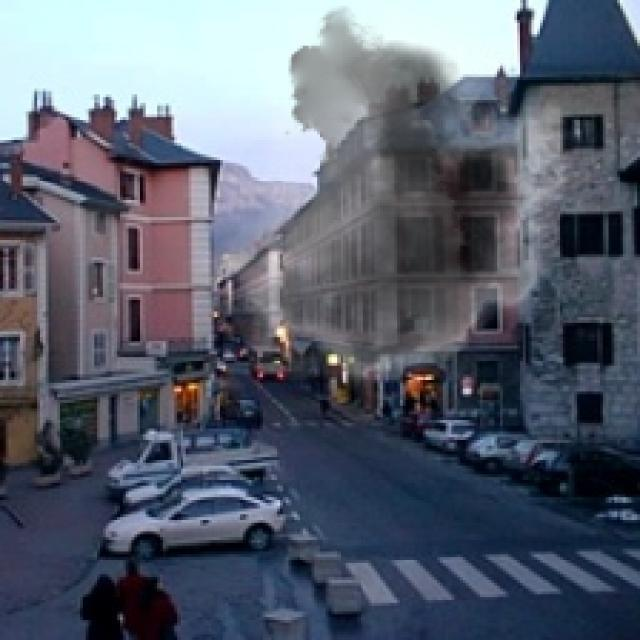Smoke: (180, 6, 589, 406)
